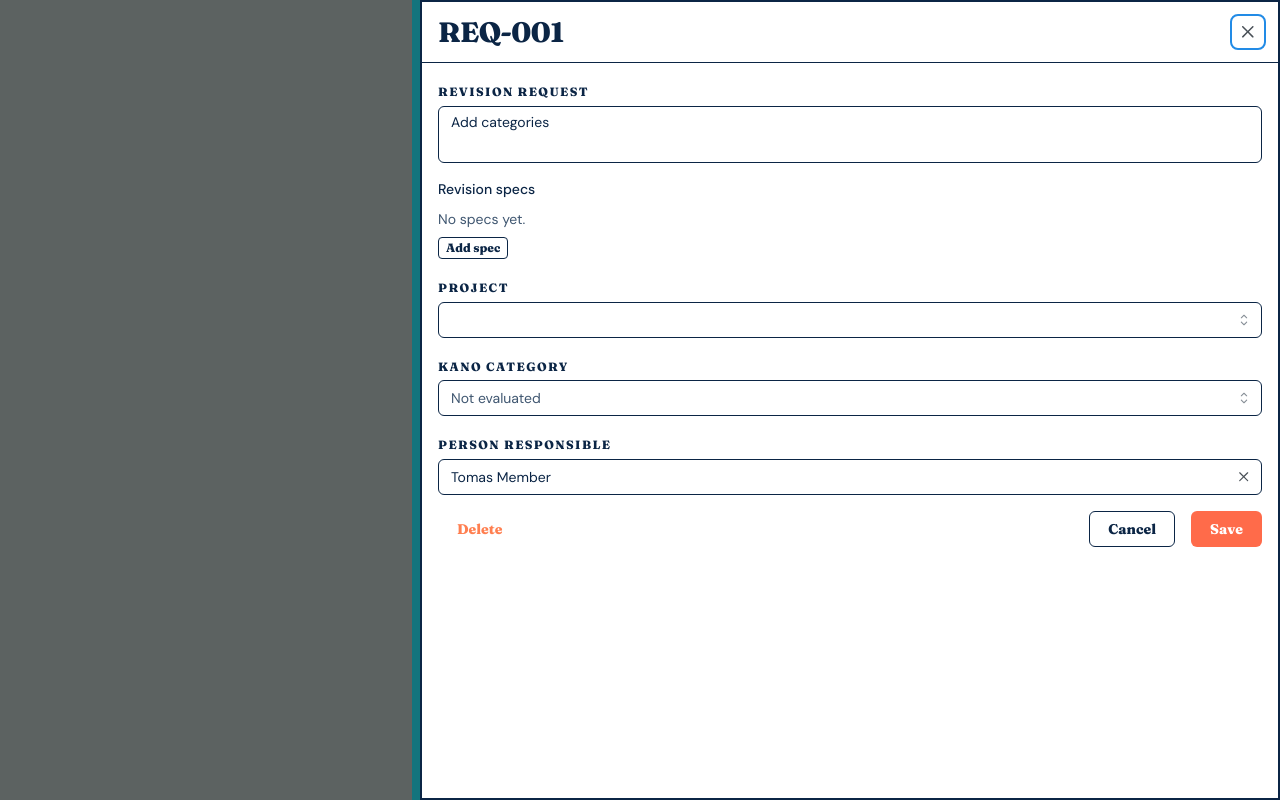
Kano Person responsible › edit modal pre-populates the assignee and patches a change
Later steps or results of the test are not shown.
What coordinates should you click on to do the following:
click the field labelled "Person responsible"
I would click on:
 (850, 477)
Its box is top-left (438, 459), bottom-right (1262, 495).
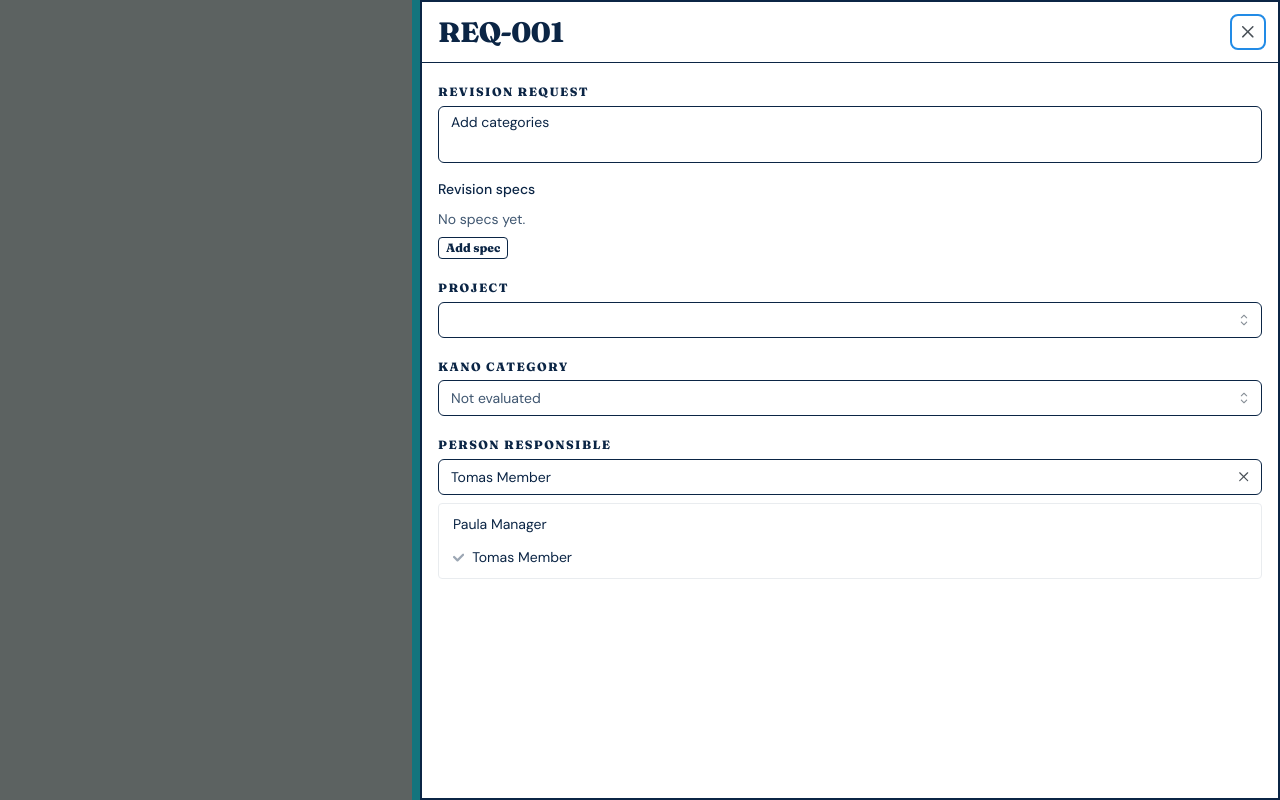
Now the option "Paula Manager" is shown, box top-left (453, 515), bottom-right (547, 533)
